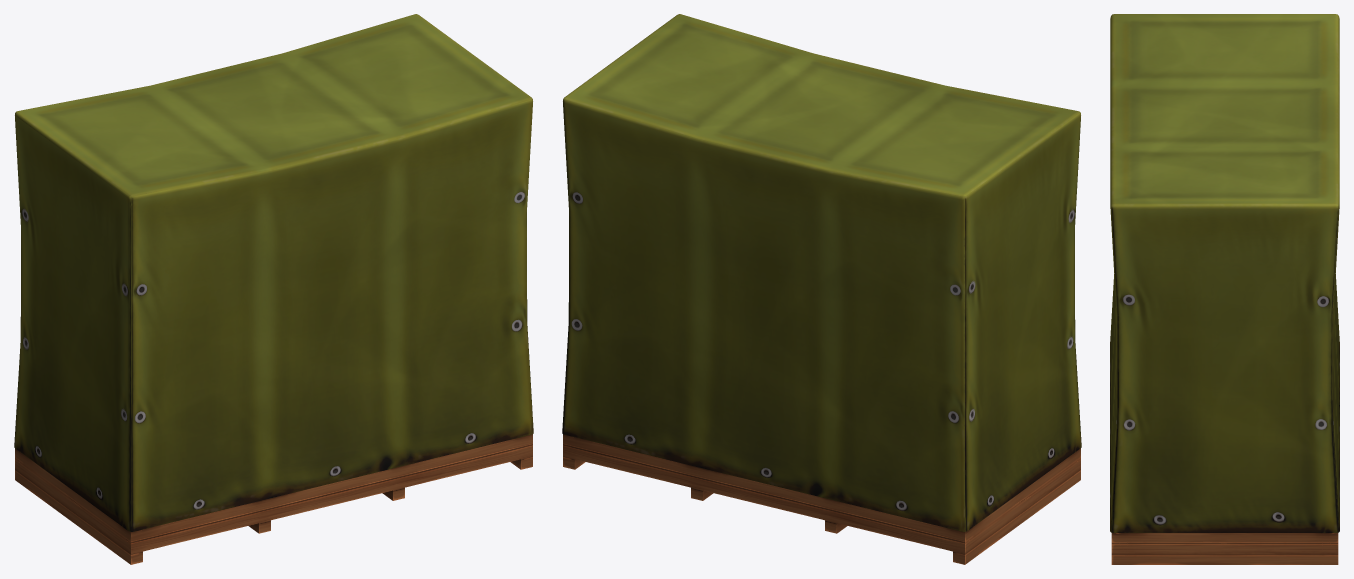
File: Crate03_1.FBX
3 renders of one model, left to right at view 1: azimuth 30°, elevation 25°; view 2: azimuth 150°, elevation 25°; view 3: azimuth 270°, elevation 25°, orthographic. The views are drawn at different scales.
Parts seen in each view (by area): view 1: Crate03_1; view 2: Crate03_1; view 3: Crate03_1.
Part boxes in pixels (x1,y1,x2,y2): Crate03_1: [14, 14, 533, 564]; Crate03_1: [562, 14, 1081, 564]; Crate03_1: [1110, 14, 1339, 564].
Size of what is drawn, in the model's own units: 2.01 by 1.75 by 1.01.
